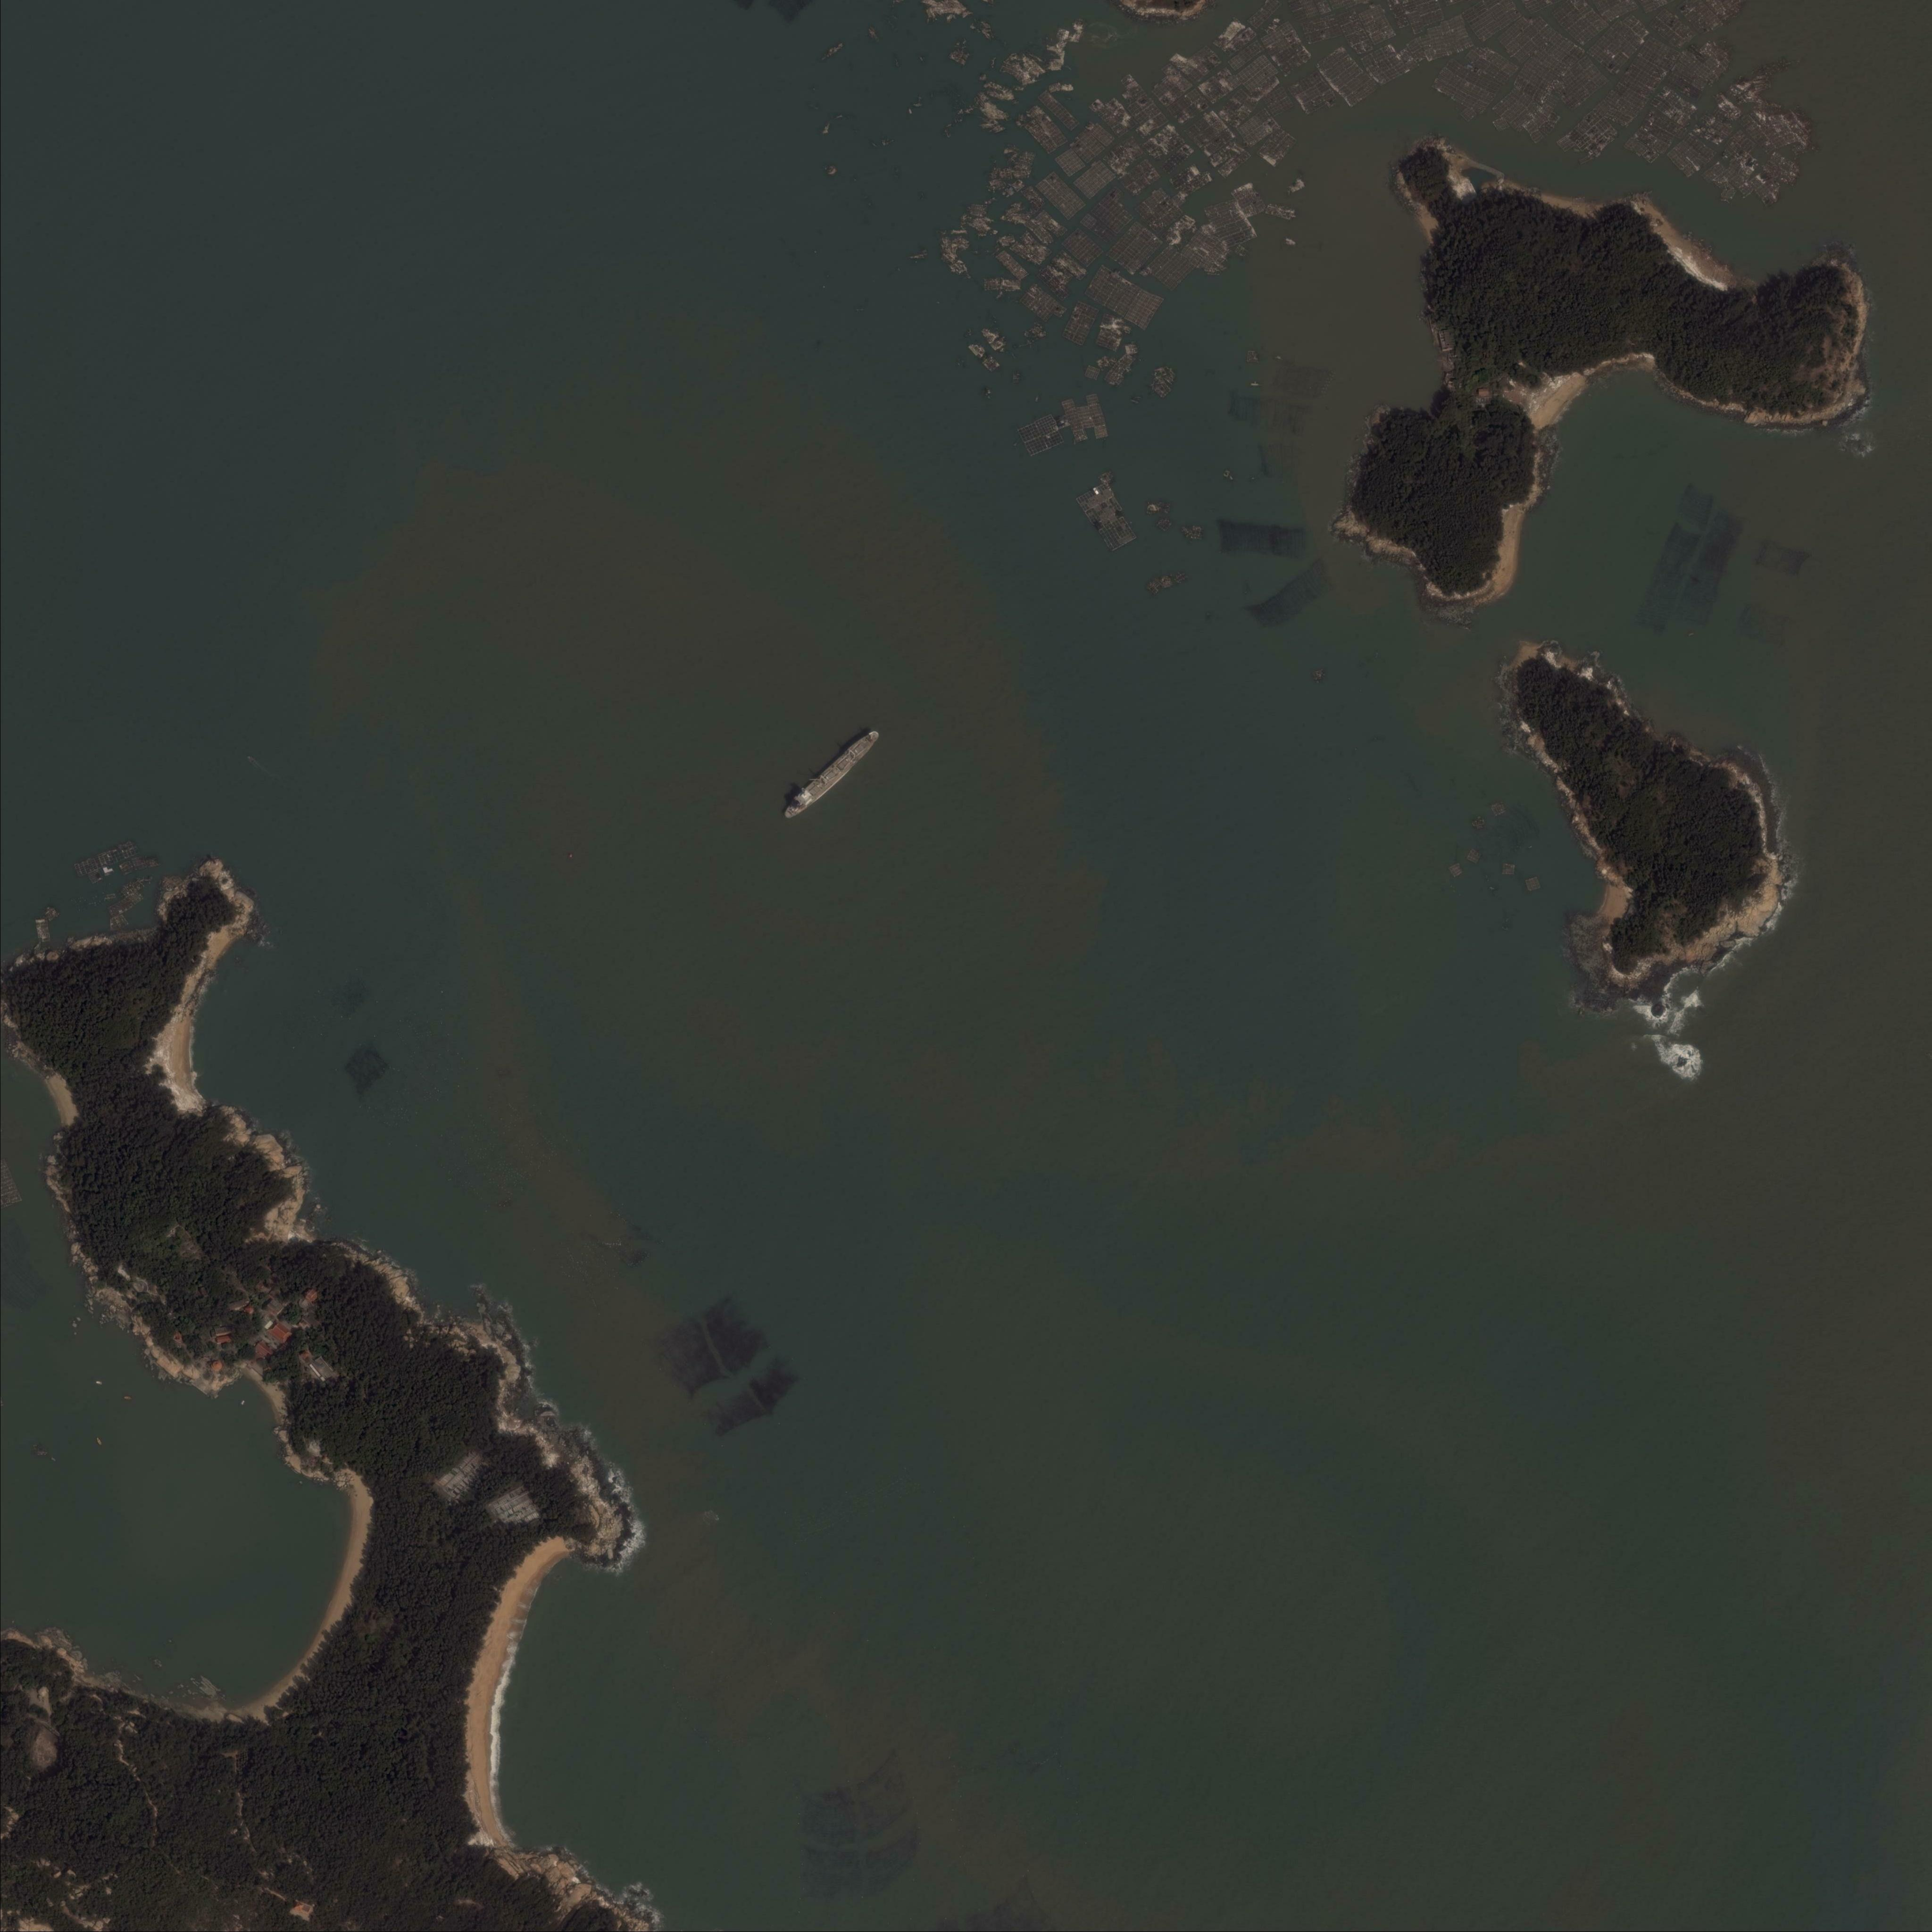ship: (778, 727, 885, 824)
